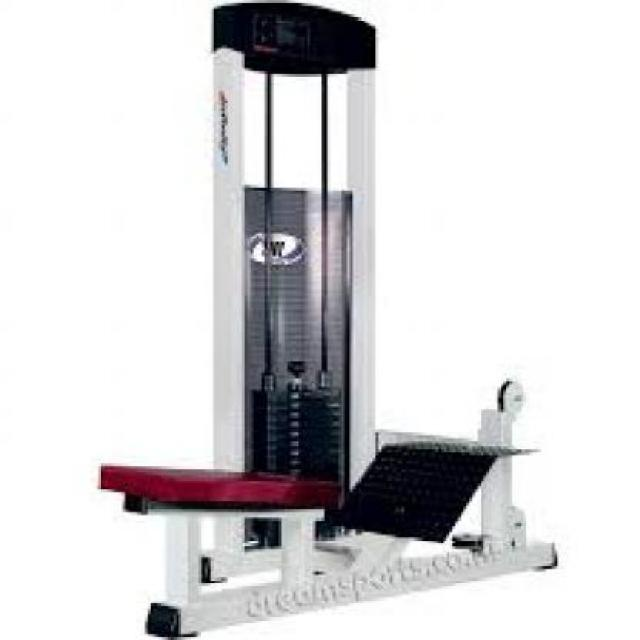Seated Cable Rows: (83, 3, 566, 640)
